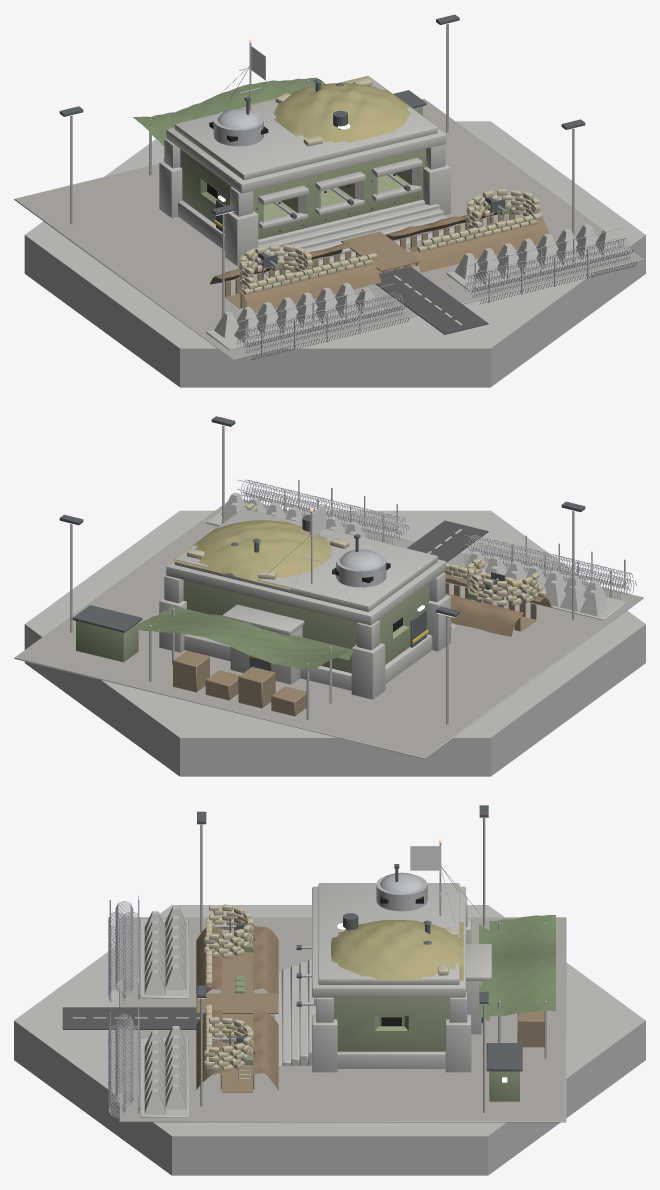
Rendered from bunker.glb.
The picture shows the model from 3 angles, top to bottom: view 1: azimuth 30°, elevation 25°; view 2: azimuth 150°, elevation 25°; view 3: azimuth 270°, elevation 25°; orthographic projection.
Parts seen in each view (by area): view 1: wall_concrete, gravel, metal, camo, sandbag, earth, turf, asphalt, wood, net, steel_dark; view 2: wall_concrete, gravel, metal, camo, turf, net, wood, steel_dark, sandbag, earth, asphalt; view 3: wall_concrete, gravel, metal, camo, net, turf, earth, wood, sandbag, asphalt, steel_dark, banner.
Part boxes in pixels (bbox=[...]): wall_concrete: bbox=[24, 77, 645, 387]; gravel: bbox=[14, 99, 643, 360]; metal: bbox=[70, 23, 636, 359]; camo: bbox=[180, 106, 510, 270]; sandbag: bbox=[239, 78, 542, 294]; earth: bbox=[210, 203, 549, 313]; turf: bbox=[251, 75, 433, 142]; asphalt: bbox=[375, 266, 488, 334]; wood: bbox=[164, 158, 515, 308]; net: bbox=[133, 77, 325, 145]; steel_dark: bbox=[59, 14, 585, 277]; wall_concrete: bbox=[24, 492, 645, 776]; gravel: bbox=[14, 499, 643, 758]; metal: bbox=[70, 425, 636, 724]; camo: bbox=[76, 580, 479, 673]; turf: bbox=[172, 513, 333, 589]; net: bbox=[133, 605, 353, 668]; wood: bbox=[173, 582, 536, 716]; steel_dark: bbox=[59, 416, 585, 671]; sandbag: bbox=[187, 503, 546, 605]; earth: bbox=[445, 573, 551, 636]; asphalt: bbox=[407, 520, 488, 562]; wall_concrete: bbox=[14, 883, 645, 1175]; gravel: bbox=[119, 917, 566, 1122]; metal: bbox=[108, 818, 546, 1117]; camo: bbox=[235, 942, 519, 1101]; net: bbox=[479, 915, 555, 1021]; turf: bbox=[330, 919, 463, 980]; earth: bbox=[196, 925, 278, 1090]; wood: bbox=[196, 945, 544, 1092]; sandbag: bbox=[204, 904, 457, 1071]; asphalt: bbox=[62, 1007, 203, 1029]; steel_dark: bbox=[197, 805, 522, 1071]; banner: bbox=[410, 846, 441, 870].
Bounding box in the file's own units: 21.3 × 8.8 × 24.6.
